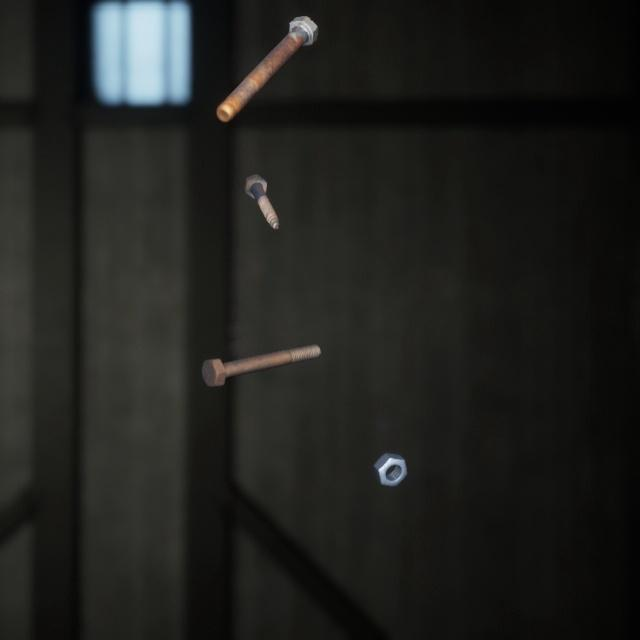bolt: (212, 1, 322, 114), (197, 321, 325, 371), (239, 154, 284, 218)
nut: (369, 428, 412, 471)
